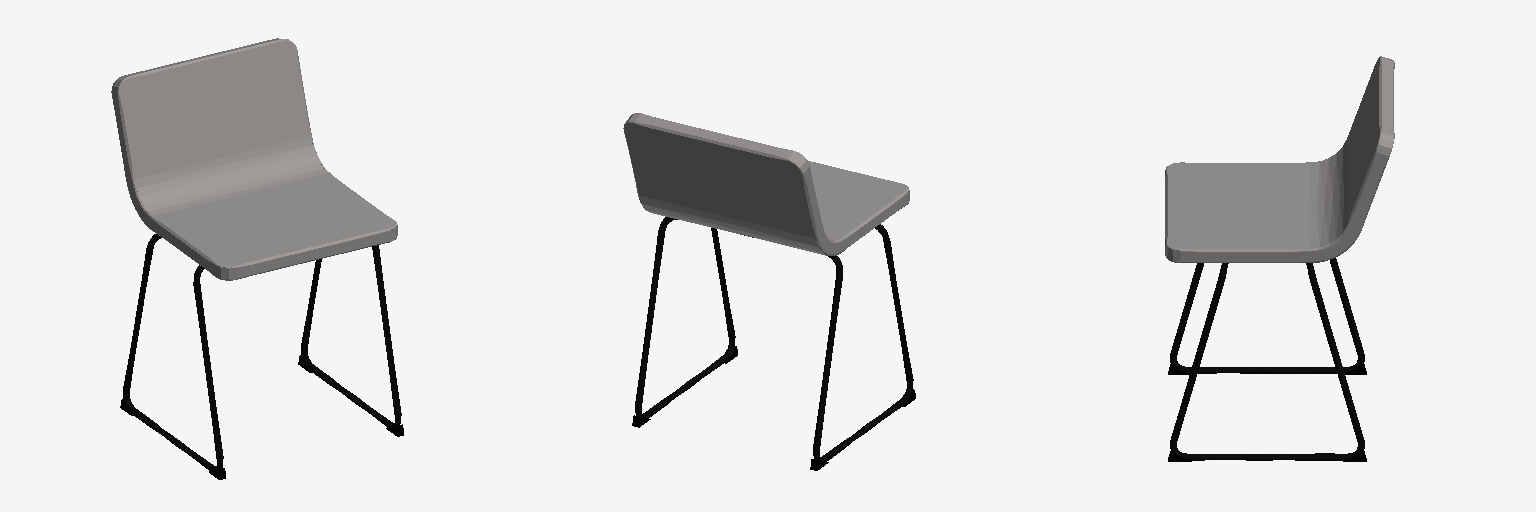
File: chaiseYZ.obj
The picture shows the model from 3 angles: view 1: azimuth 30°, elevation 25°; view 2: azimuth 150°, elevation 25°; view 3: azimuth 270°, elevation 25°; orthographic projection.
Visible parts, largest first — view 1: 45 x 50 x 77 cm - Blanc; view 2: 45 x 50 x 77 cm - Blanc; view 3: 45 x 50 x 77 cm - Blanc.
Boxes of the visible parts, box(x1,y1,x2,y2) form: 45 x 50 x 77 cm - Blanc: box(111, 38, 403, 479); 45 x 50 x 77 cm - Blanc: box(623, 113, 915, 470); 45 x 50 x 77 cm - Blanc: box(1165, 56, 1394, 461).
Size of the model in its own units: 0.472 by 0.7848 by 0.5063.